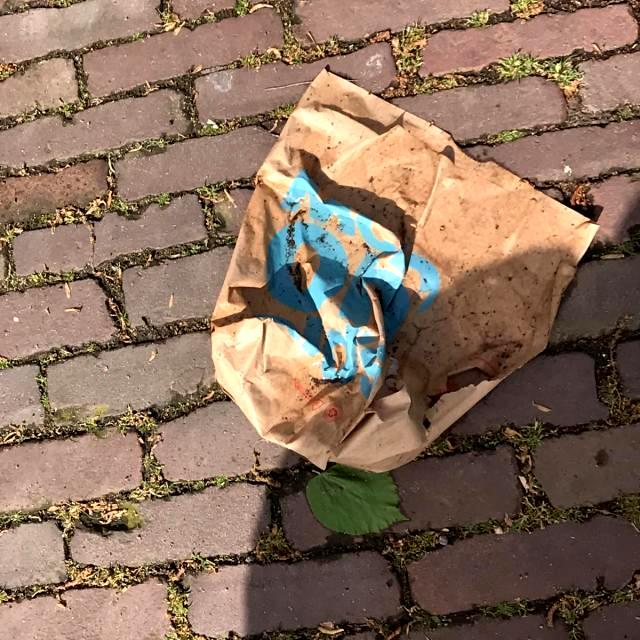Paper: (208, 67, 602, 476)
